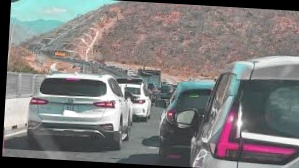Bien-so: (59, 111, 73, 122)
